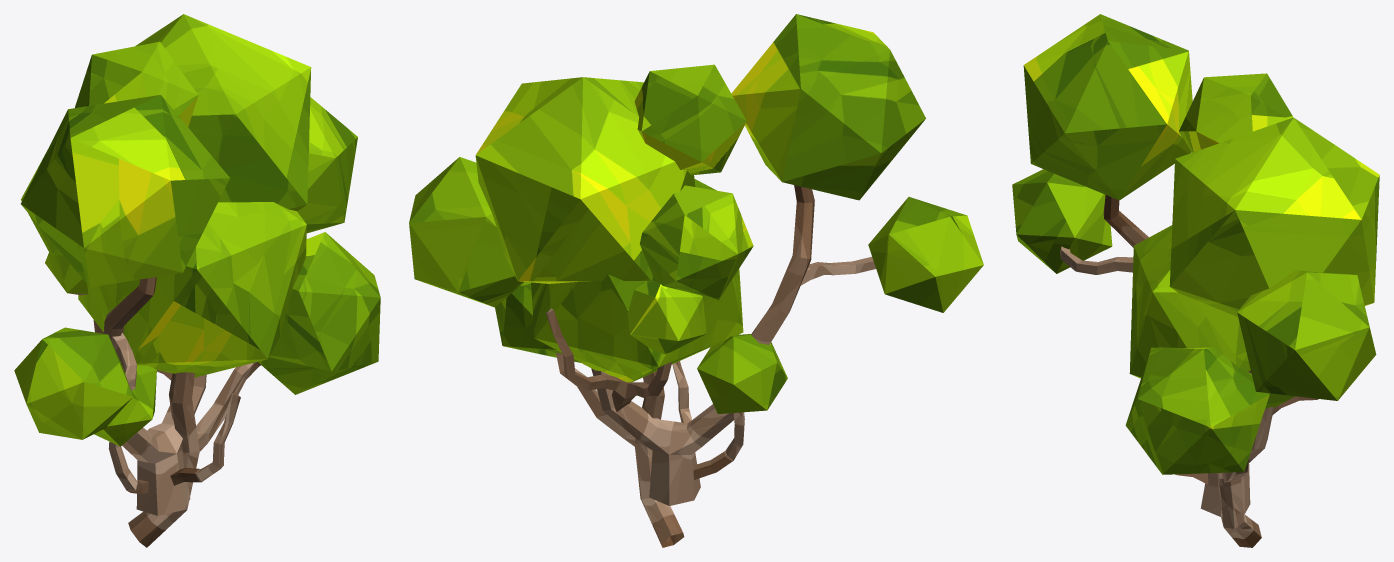
File: tree 1.fbx
3 renders of one model, left to right at view 1: azimuth 30°, elevation 25°; view 2: azimuth 150°, elevation 25°; view 3: azimuth 270°, elevation 25°, orthographic. The views are drawn at different scales.
Parts seen in each view (by area): view 1: Tree_lp_11.001, Tree_lp_11; view 2: Tree_lp_11.001, Tree_lp_11; view 3: Tree_lp_11.001, Tree_lp_11.
Boxes of the visible parts, x1=… form: Tree_lp_11.001: x1=14, y1=14, x2=357, y2=515; Tree_lp_11: x1=21, y1=150, x2=380, y2=547; Tree_lp_11.001: x1=409, y1=14, x2=983, y2=505; Tree_lp_11: x1=495, y1=179, x2=787, y2=547; Tree_lp_11.001: x1=1012, y1=14, x2=1379, y2=516; Tree_lp_11: x1=1125, y1=225, x2=1294, y2=547.
Size of the model in its own units: 2798 by 2991 by 2074.
